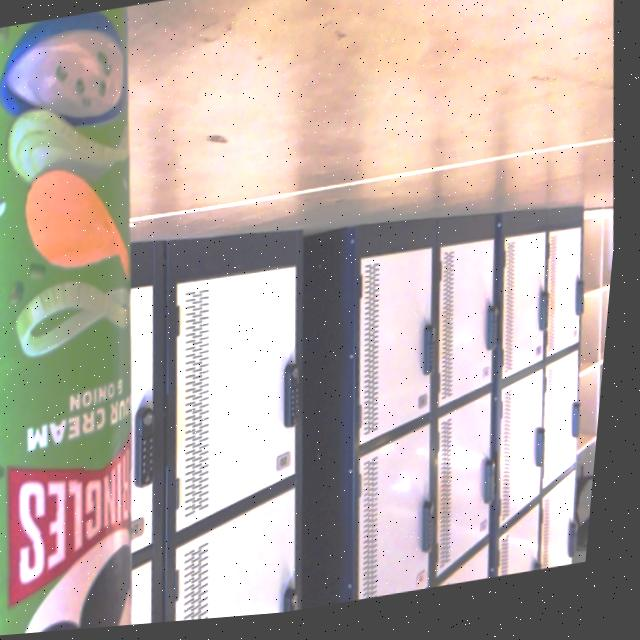greenpringles: (0, 0, 215, 640)
